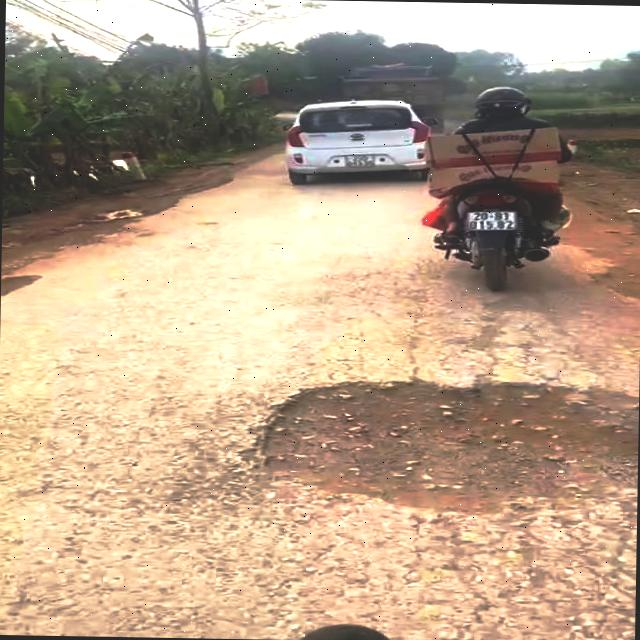pothole: (228, 360, 640, 519), (0, 269, 49, 303)
